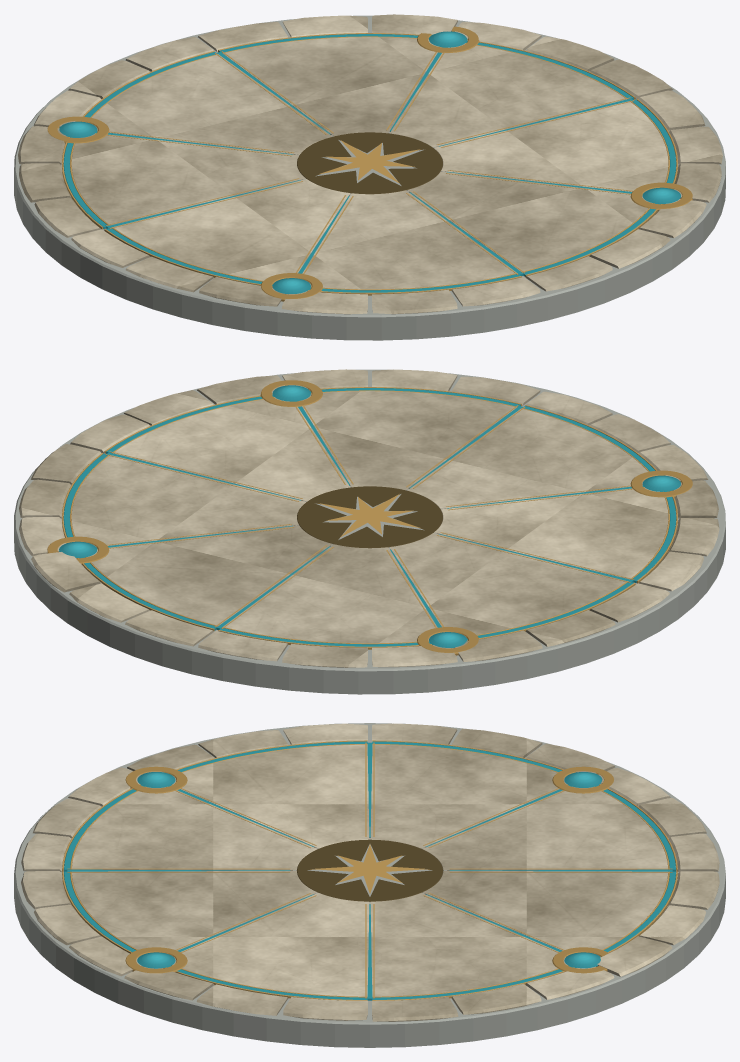
Rendered from arrival-dais-surface-v01-a0.glb.
3 renders of one model, top to bottom at view 1: azimuth 30°, elevation 25°; view 2: azimuth 150°, elevation 25°; view 3: azimuth 270°, elevation 25°, orthographic.
Parts seen in each view (by area): view 1: Arrival_Weathered, Arrival_Recessed, Arrival_Aged, Arrival_Seated; view 2: Arrival_Weathered, Arrival_Recessed, Arrival_Aged, Arrival_Seated; view 3: Arrival_Weathered, Arrival_Recessed, Arrival_Aged, Arrival_Seated.
Part boxes in pixels (x1,y1,x2,y2): Arrival_Weathered: (18,14,722,314); Arrival_Recessed: (14,15,725,340); Arrival_Aged: (47,26,692,301); Arrival_Seated: (59,31,680,294); Arrival_Weathered: (19,369,719,667); Arrival_Recessed: (14,369,725,694); Arrival_Aged: (47,380,692,655); Arrival_Seated: (59,385,680,647); Arrival_Weathered: (21,723,719,1021); Arrival_Recessed: (14,723,725,1047); Arrival_Aged: (62,740,677,1000); Arrival_Seated: (64,741,675,1000).
Size of the model in its own units: 5.28 by 0.254 by 5.28.
4 materials, 1 textured.
